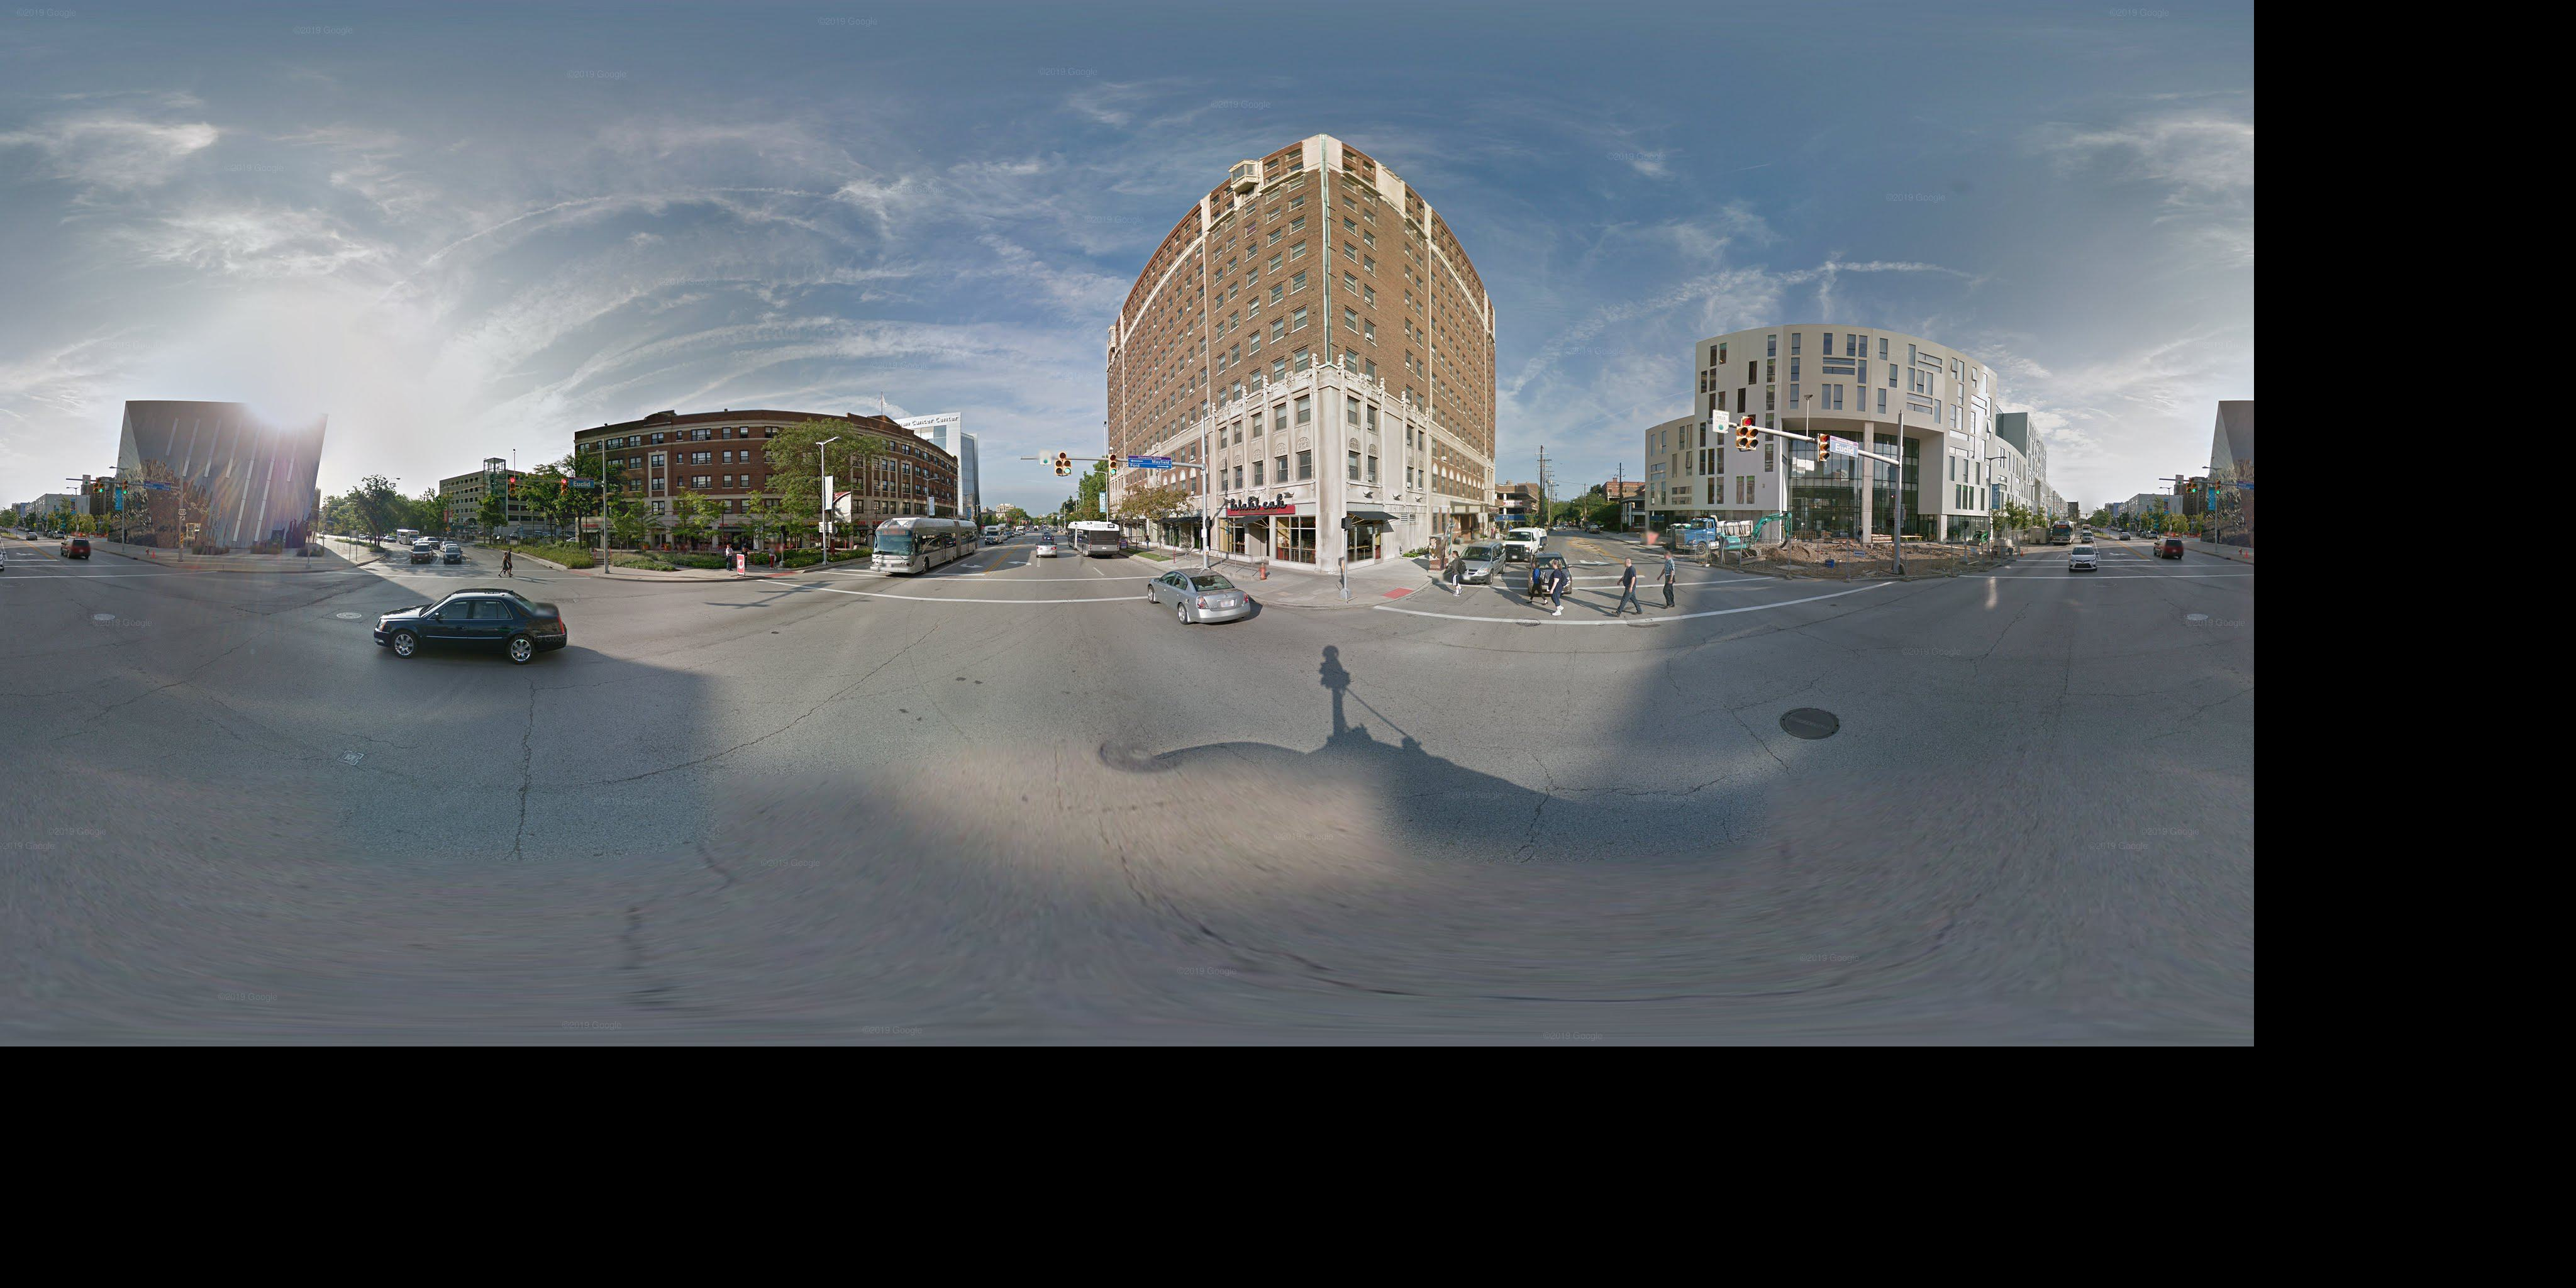Curb Ramp: (1377, 575, 1419, 606), (759, 568, 802, 582), (565, 567, 598, 580), (181, 560, 204, 575), (327, 563, 350, 573)
Irregular Ramp: (1804, 567, 1874, 590), (1948, 560, 1996, 578)
